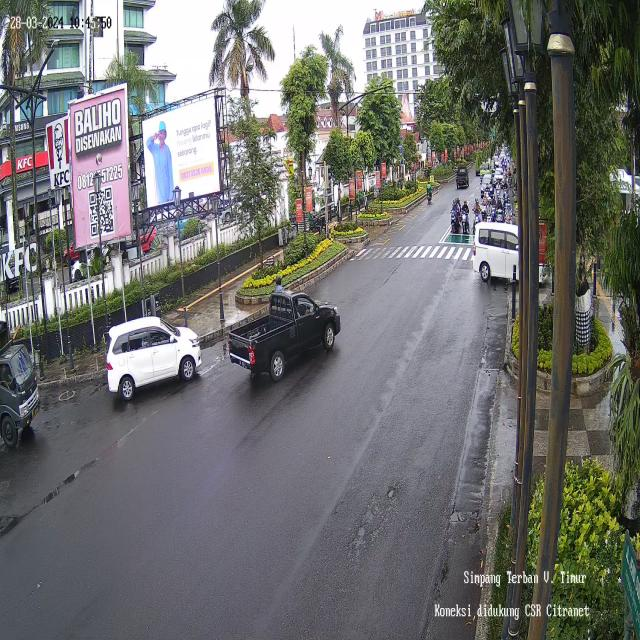car: (103, 321, 201, 399), (472, 218, 549, 286), (482, 173, 493, 196), (493, 165, 504, 185)
motorcycle: (459, 198, 468, 237), (472, 199, 481, 232), (451, 198, 458, 230), (425, 182, 432, 207)
truck: (226, 286, 343, 378), (0, 318, 43, 452), (455, 165, 470, 189)
